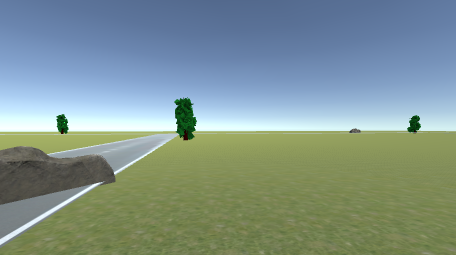rock: (1, 145, 116, 195), (349, 128, 361, 133)
tree: (174, 97, 199, 141), (407, 115, 423, 135), (56, 114, 71, 135)
